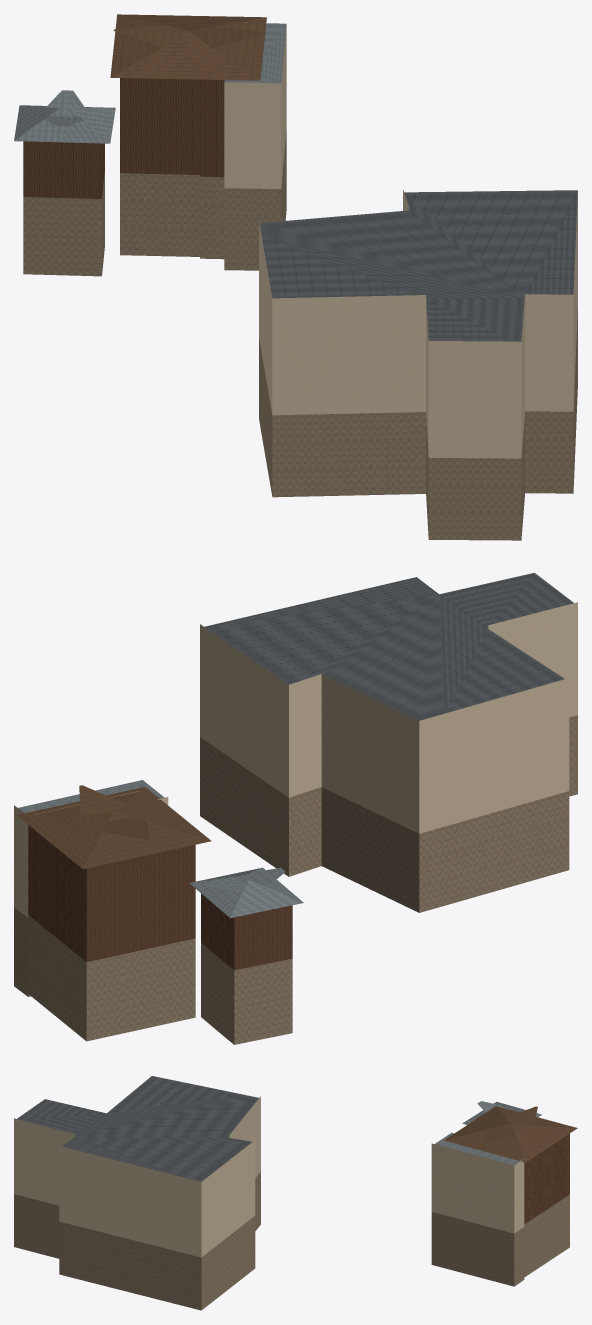
File: bld_c11_28_397.gltf
3 views of the same model, one above another, from view 1: azimuth 30°, elevation 25°; view 2: azimuth 150°, elevation 25°; view 3: azimuth 270°, elevation 25° (orthographic). The views are drawn at different scales.
Visible parts, largest first — view 1: bld_c11_28_397; view 2: bld_c11_28_397; view 3: bld_c11_28_397.
Part boxes in pixels (bbox=[...]): bld_c11_28_397: bbox=[14, 14, 577, 540]; bld_c11_28_397: bbox=[14, 573, 577, 1044]; bld_c11_28_397: bbox=[14, 1076, 577, 1310].
Size of the model in its own units: 22.4 by 13.4 by 49.18.
7 materials, 7 textured.
